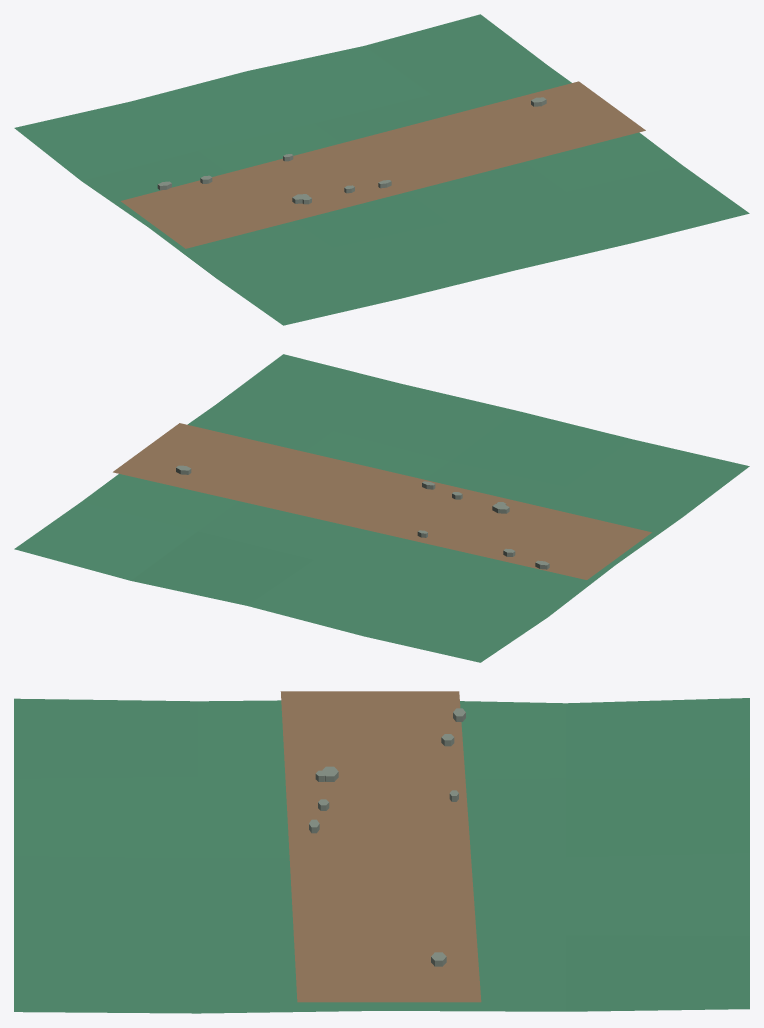
The model's file is terrain-dirt-path-straight.low.glb.
The picture shows the model from 3 angles, top to bottom: view 1: azimuth 30°, elevation 25°; view 2: azimuth 150°, elevation 25°; view 3: azimuth 270°, elevation 25°; orthographic projection. The views are drawn at different scales.
Parts seen in each view (by area): view 1: terrain_straight_grass_base, terrain_straight_path_ribbon; view 2: terrain_straight_grass_base, terrain_straight_path_ribbon; view 3: terrain_straight_grass_base, terrain_straight_path_ribbon.
Boxes of the visible parts, left/top/right/bottom form: terrain_straight_grass_base: left=14, top=14, right=749, bottom=325; terrain_straight_path_ribbon: left=121, top=81, right=645, bottom=248; terrain_straight_grass_base: left=14, top=354, right=749, bottom=662; terrain_straight_path_ribbon: left=113, top=423, right=651, bottom=579; terrain_straight_grass_base: left=14, top=698, right=749, bottom=1013; terrain_straight_path_ribbon: left=280, top=691, right=481, bottom=1002.
Size of the model in its own units: 4 by 0.1237 by 4.
